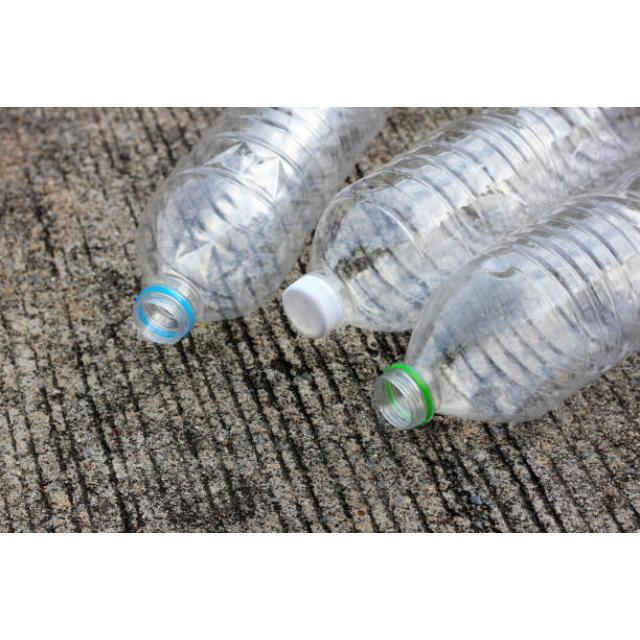PET Bottle: (266, 109, 631, 351), (119, 100, 377, 383), (346, 211, 640, 453)
